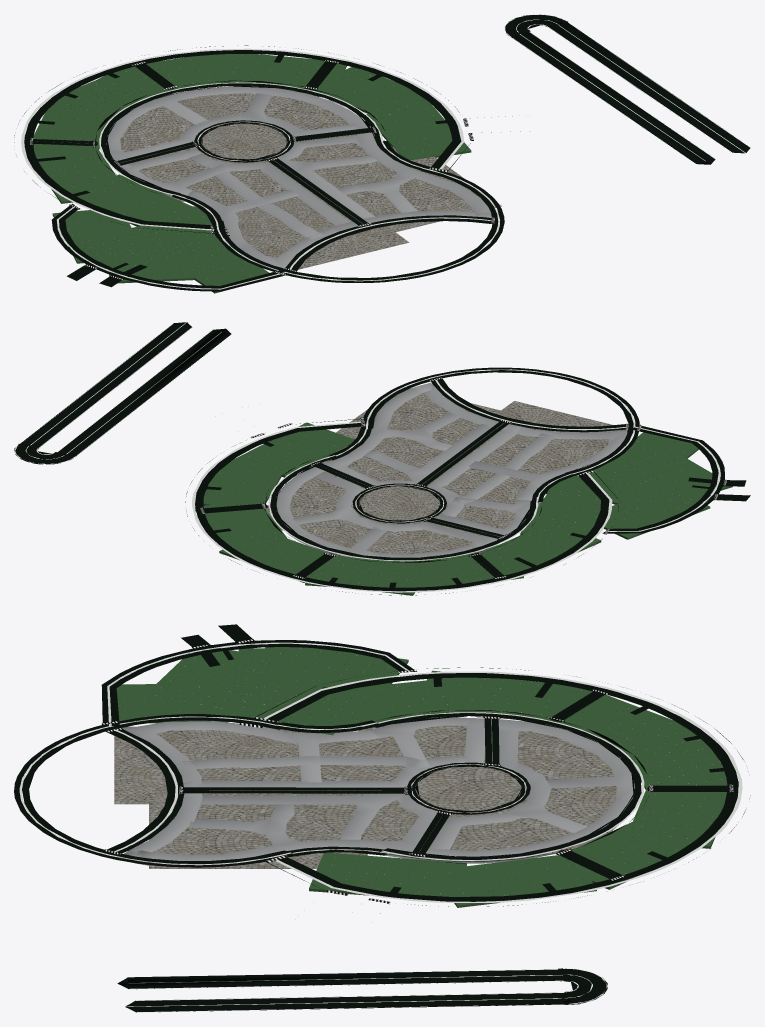
The model's file is lowpollyroad.glb.
3 renders of one model, top to bottom at view 1: azimuth 30°, elevation 25°; view 2: azimuth 150°, elevation 25°; view 3: azimuth 270°, elevation 25°, orthographic. The views are drawn at different scales.
Parts seen in each view (by area): view 1: road; view 2: road; view 3: road.
Part boxes in pixels (bbox=[...]): road: bbox=[14, 14, 750, 293]; road: bbox=[14, 322, 750, 595]; road: bbox=[14, 624, 750, 1012].
Size of the model in its own units: 3070 by 38.75 by 2454.
4 materials, 4 textured.
